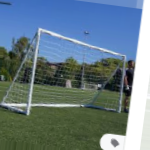goals: (1, 26, 127, 118)
